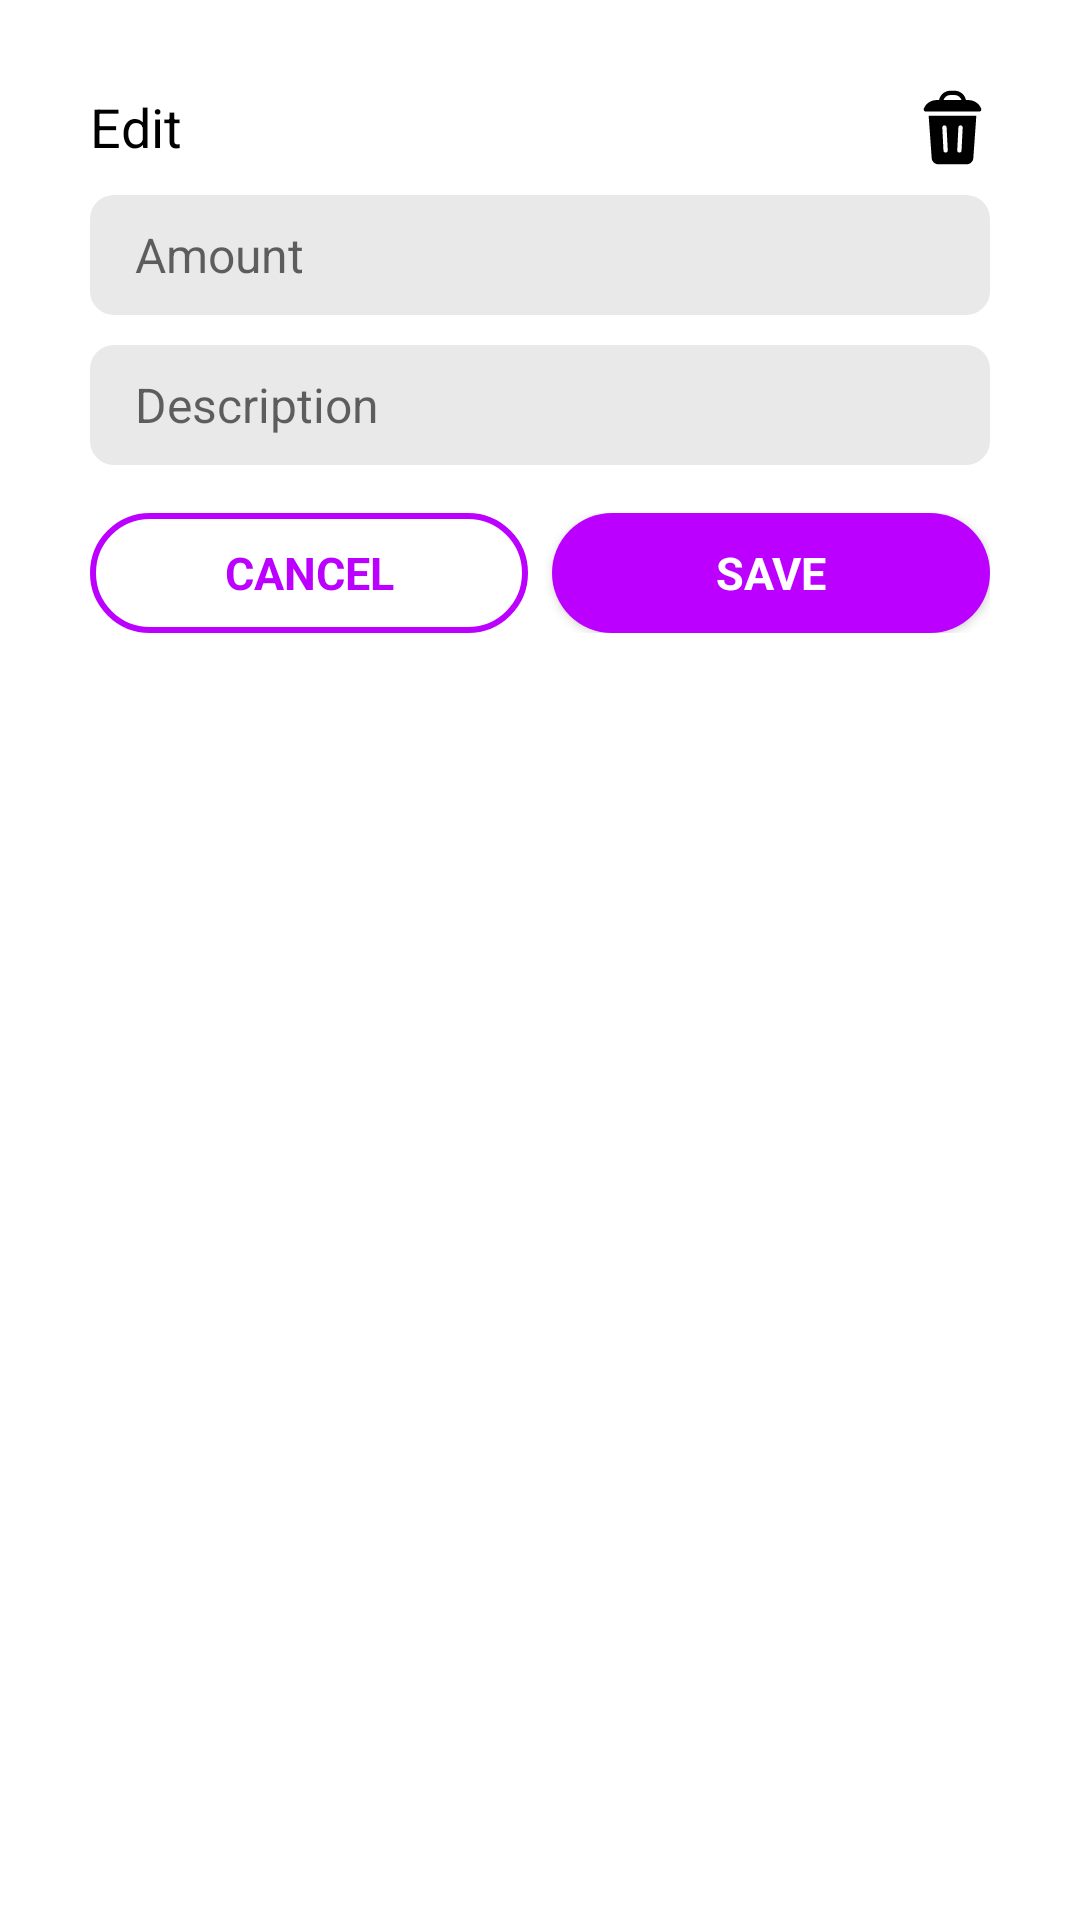

Icons on this 1080x1920 Android screen, each with its box as (x1, y1, x2, y2):
trash: (923, 90, 982, 165)
